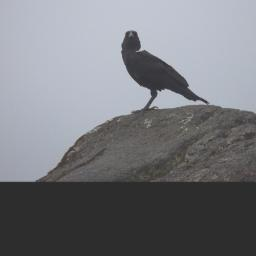Crow: (120, 29, 210, 113)
